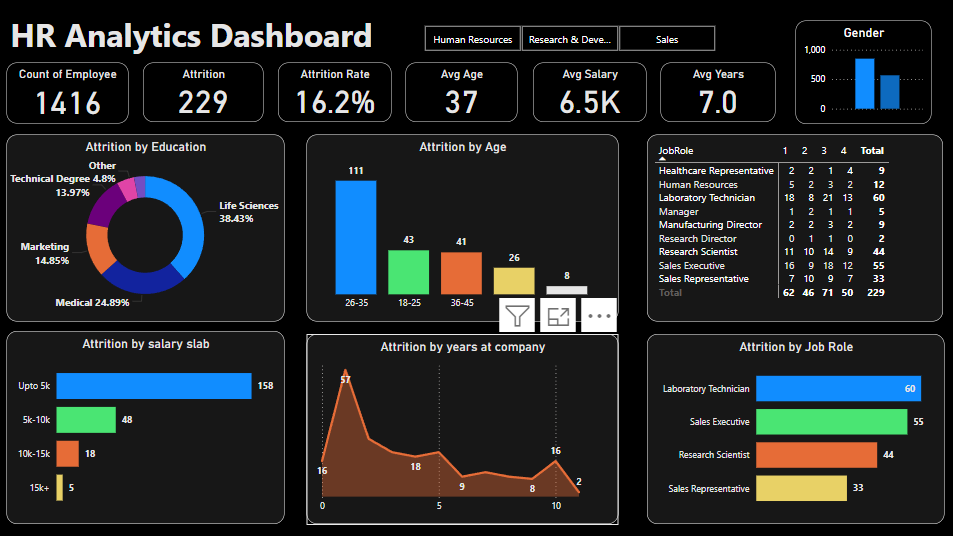

What the dashboard file says about the page in this screenshot:
{"tool":"powerbi","page":{"name":"Page 1","canvas":[1280,720],"ordinal":0},"visuals":[{"type":"card","title":"Count of Employee","fields":{"Values":["Sum(HR_Analytics.EmployeeCount)"]},"box":[10.1,86.5,162.5,81.3],"z":0},{"type":"card","title":"Attrition","fields":{"Values":["Sum(HR_Analytics.AttritionCount)"]},"box":[192.8,86.9,160.6,79.4],"z":1000},{"type":"card","title":"Attrition Rate","fields":{"Values":["HR_Analytics.AttritionRate"]},"box":[372.3,86.9,151.2,79.4],"z":2000},{"type":"card","title":"Avg Age","fields":{"Values":["Avg(HR_Analytics.Age)"]},"box":[542.4,86.9,149.3,79.4],"z":3000},{"type":"card","title":"Avg Salary","fields":{"Values":["Avg(HR_Analytics.MonthlyIncome)"]},"box":[712.4,86.9,151.2,79.4],"z":4000},{"type":"card","title":"Avg Years","fields":{"Values":["Avg(HR_Analytics.YearsAtCompany)"]},"box":[882.5,86.9,153.1,79.4],"z":5000},{"type":"donutChart","title":"Attrition by Education","fields":{"Category":["HR_Analytics.EducationField"],"Y":["Sum(HR_Analytics.AttritionCount)"]},"box":[9.4,181.4,370.4,249.5],"z":6000},{"type":"columnChart","title":"Attrition by Age","fields":{"Category":["HR_Analytics.AgeGroup"],"Y":["Sum(HR_Analytics.AttritionCount)"]},"box":[410.1,181.4,415.8,249.5],"z":7000},{"type":"pivotTable","fields":{"Rows":["HR_Analytics.JobRole"],"Columns":["HR_Analytics.JobSatisfaction"],"Values":["Sum(HR_Analytics.AttritionCount)"]},"box":[863.6,181.4,395,249.5],"z":8000},{"type":"barChart","title":"Attrition by salary slab","fields":{"Category":["HR_Analytics.SalarySlab"],"Y":["Sum(HR_Analytics.AttritionCount)"]},"box":[9.4,444.1,370.4,257],"z":9000},{"type":"barChart","title":"Attrition by Job Role","fields":{"Category":["HR_Analytics.JobRole"],"Y":["Sum(HR_Analytics.AttritionCount)"]},"box":[863.6,447.9,396.9,253.2],"z":10000},{"type":"areaChart","title":"Attrition by years at company","fields":{"Category":["HR_Analytics.YearsAtCompany"],"Y":["Sum(HR_Analytics.AttritionCount)"]},"box":[410.1,447.9,415.8,253.2],"z":11000},{"type":"columnChart","title":"Attrition by Gender","fields":{"Category":["HR_Analytics.Gender"],"Y":["Sum(HR_Analytics.AttritionCount)"]},"box":[1060.2,30.2,179.5,138],"z":12000},{"type":"slicer","fields":{"Values":["HR_Analytics.Department"]},"box":[542.4,30.2,436.5,47.2],"z":13000},{"type":"textbox","box":[10.1,14.7,548,75.6],"z":14000}]}

Visuals, with their boxes in screenshot pixels (x1, y1, x2, y2), scaled from the page's 1280x720 canvas onto the 953x536 screenshot:
"Count of Employee" card: x1=8, y1=64, x2=129, y2=125
"Attrition" card: x1=144, y1=65, x2=263, y2=124
"Attrition Rate" card: x1=277, y1=65, x2=390, y2=124
"Avg Age" card: x1=404, y1=65, x2=515, y2=124
"Avg Salary" card: x1=530, y1=65, x2=643, y2=124
"Avg Years" card: x1=657, y1=65, x2=771, y2=124
"Attrition by Education" donutChart: x1=7, y1=135, x2=283, y2=321
"Attrition by Age" columnChart: x1=305, y1=135, x2=615, y2=321
pivotTable - HR_Analytics.JobRole x HR_Analytics.JobSatisfaction: x1=643, y1=135, x2=937, y2=321
"Attrition by salary slab" barChart: x1=7, y1=331, x2=283, y2=522
"Attrition by Job Role" barChart: x1=643, y1=333, x2=938, y2=522
"Attrition by years at company" areaChart: x1=305, y1=333, x2=615, y2=522
"Attrition by Gender" columnChart: x1=789, y1=22, x2=923, y2=125
slicer - HR_Analytics.Department: x1=404, y1=22, x2=729, y2=58
textbox: x1=8, y1=11, x2=416, y2=67
